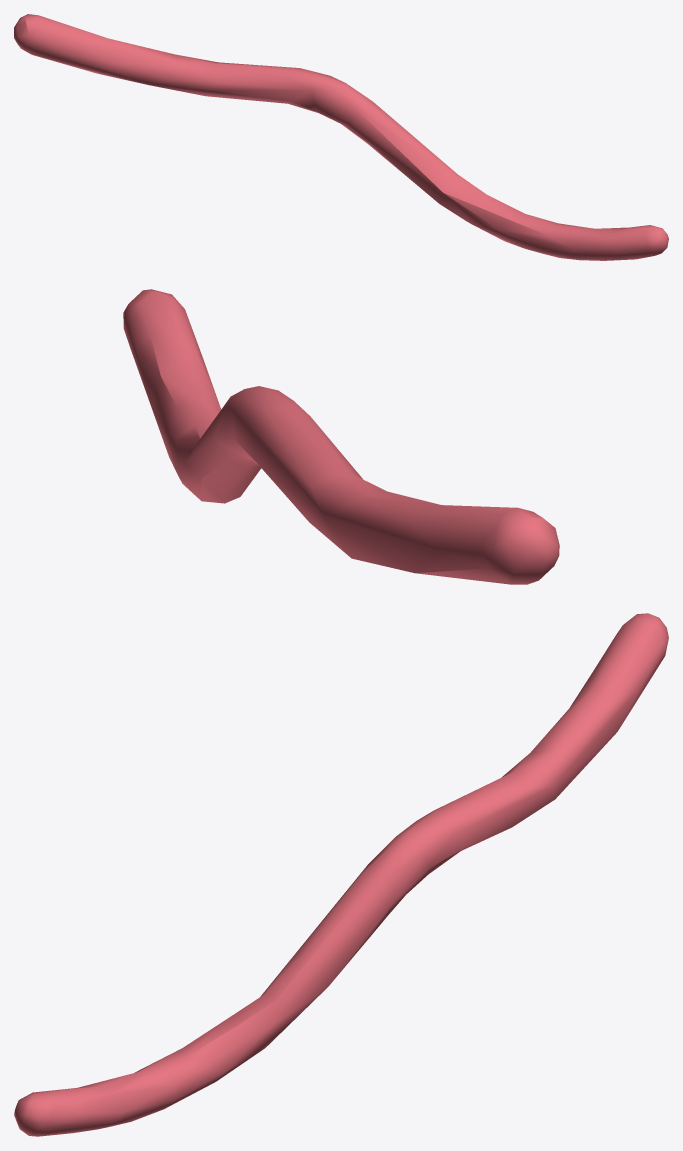
The model's file is fma15804_fj3100.glb.
3 renders of one model, top to bottom at view 1: azimuth 30°, elevation 25°; view 2: azimuth 150°, elevation 25°; view 3: azimuth 270°, elevation 25°, orthographic. The views are drawn at different scales.
Parts seen in each view (by area): view 1: FMA15804_FJ3100; view 2: FMA15804_FJ3100; view 3: FMA15804_FJ3100.
Part boxes in pixels (box(x1,y1,x2,y2)): FMA15804_FJ3100: box(14, 14, 668, 260); FMA15804_FJ3100: box(123, 289, 559, 584); FMA15804_FJ3100: box(14, 613, 668, 1136).
Size of the model in its own units: 0.012 by 0.00505 by 0.0113.
